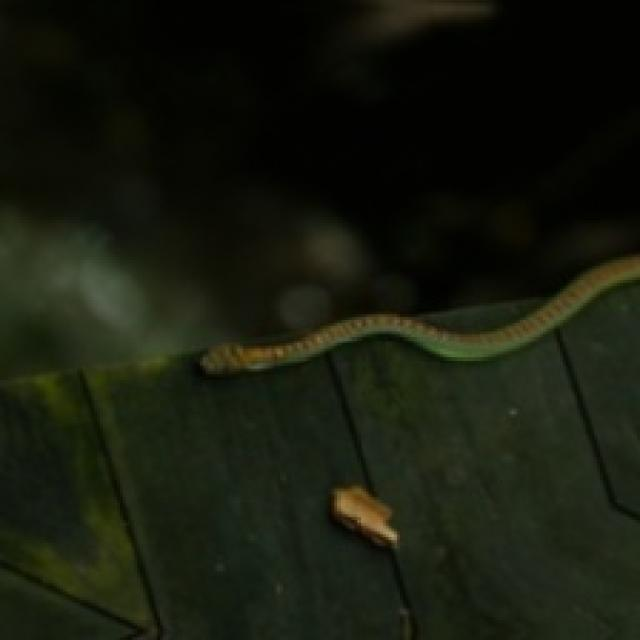paradise tree snake: (200, 254, 637, 374)
